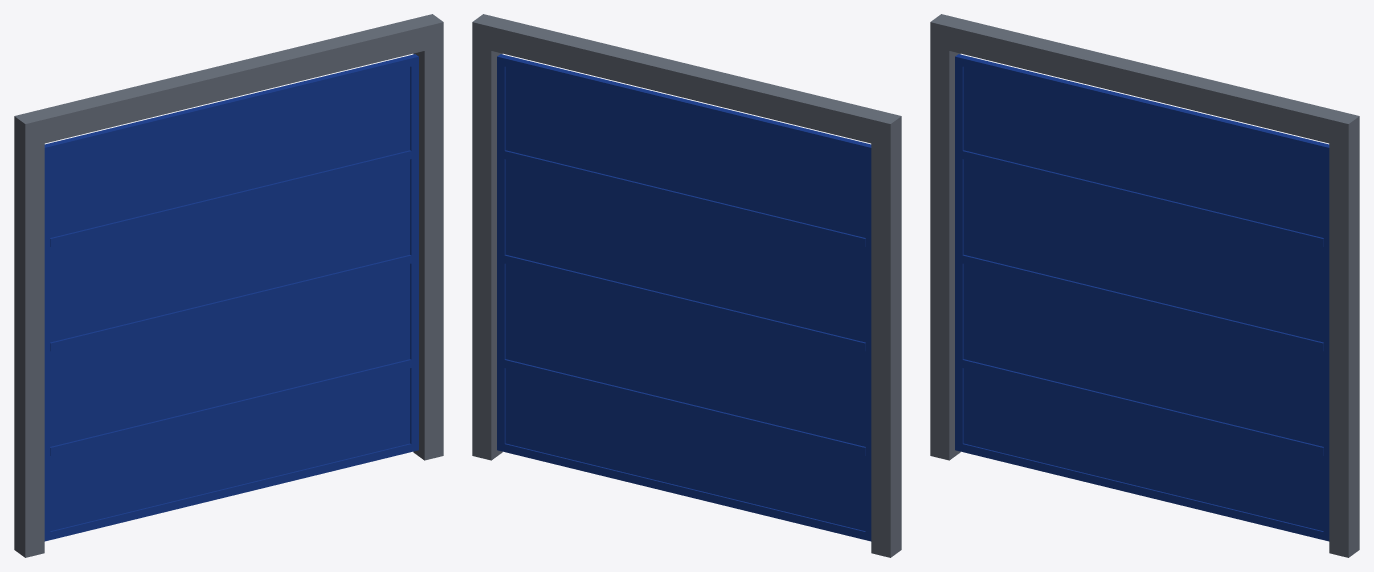
The model's file is justice.prison.sally_gate.glb.
3 renders of one model, left to right at view 1: azimuth 30°, elevation 25°; view 2: azimuth 150°, elevation 25°; view 3: azimuth 330°, elevation 25°, orthographic.
Parts seen in each view (by area): view 1: leaf__plastic_blue, frame__steel_painted; view 2: leaf__plastic_blue, frame__steel_painted; view 3: leaf__plastic_blue, frame__steel_painted.
Part boxes in pixels (x1=…): leaf__plastic_blue: x1=44, y1=54, x2=418, y2=541; frame__steel_painted: x1=14, y1=14, x2=443, y2=557; leaf__plastic_blue: x1=497, y1=54, x2=871, y2=541; frame__steel_painted: x1=472, y1=14, x2=901, y2=557; leaf__plastic_blue: x1=955, y1=54, x2=1329, y2=541; frame__steel_painted: x1=930, y1=14, x2=1359, y2=557.
Bounding box in the file's own units: 5.45 × 5.4 × 0.25.
